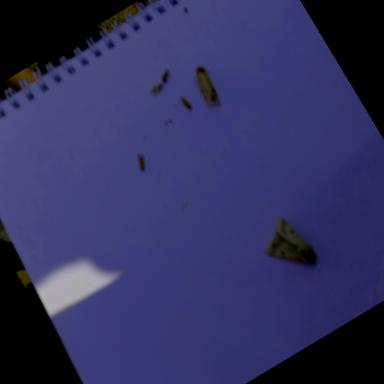abw: (252, 209, 318, 281)
pbw: (187, 64, 225, 111)
